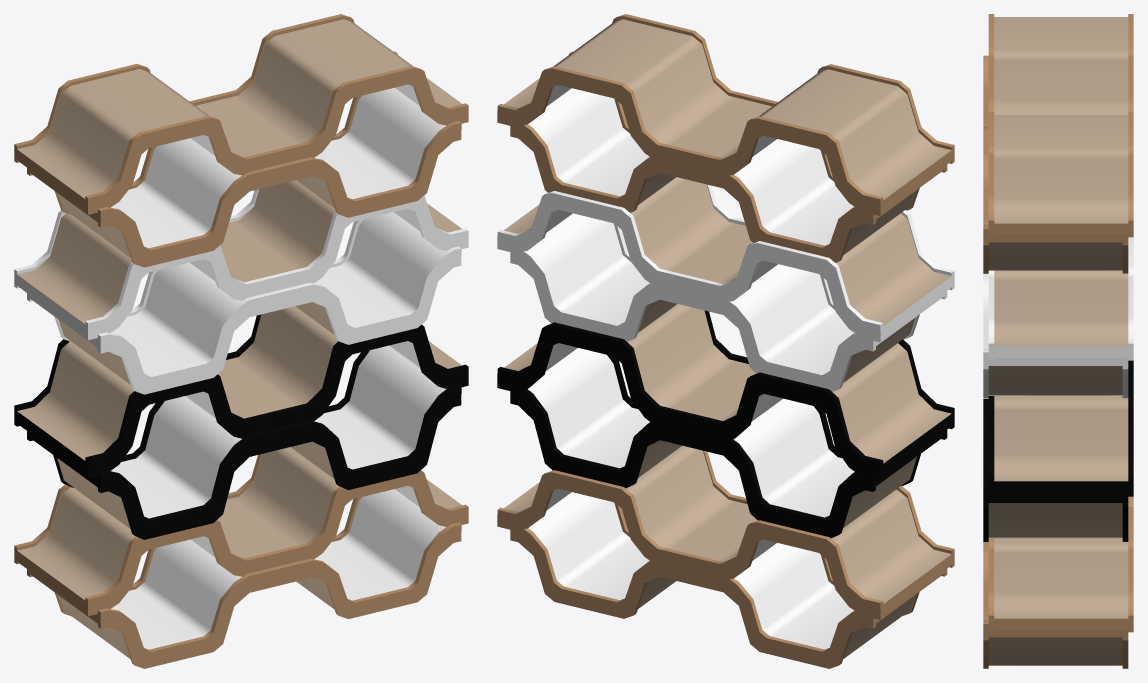
The model's file is Organic Shelf.fbx.
3 views of the same model, side by side, from view 1: azimuth 30°, elevation 25°; view 2: azimuth 150°, elevation 25°; view 3: azimuth 270°, elevation 25° (orthographic). The views are drawn at different scales.
Visible parts, largest first — view 1: Organic_Shelf_Combined; view 2: Organic_Shelf_Combined; view 3: Organic_Shelf_Combined.
Boxes of the visible parts, x1,y1,x2,y2 form: Organic_Shelf_Combined: (14, 14, 468, 668); Organic_Shelf_Combined: (497, 14, 954, 668); Organic_Shelf_Combined: (983, 14, 1133, 668).
Size of the model in its own units: 95.36 by 127 by 33.17.
